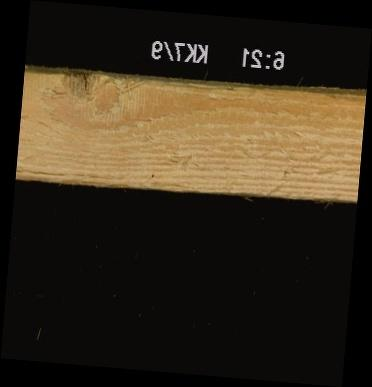edge_knot: (37, 69, 103, 107)
split: (161, 82, 237, 92)
